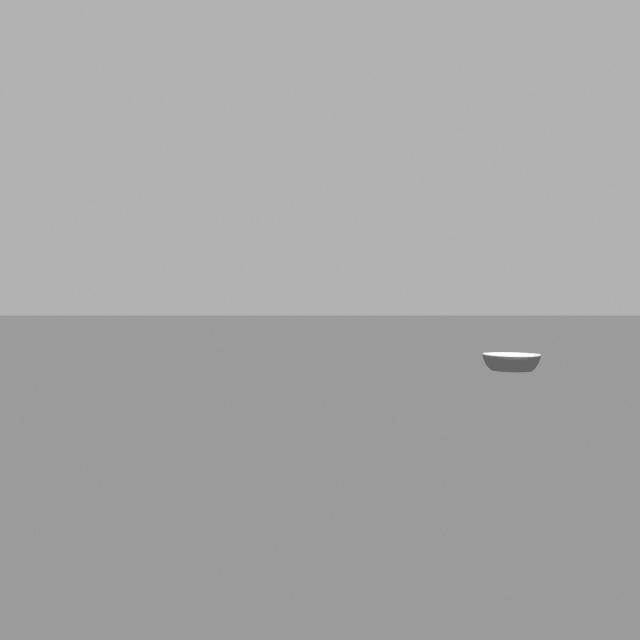bowl: (482, 332, 546, 388)
